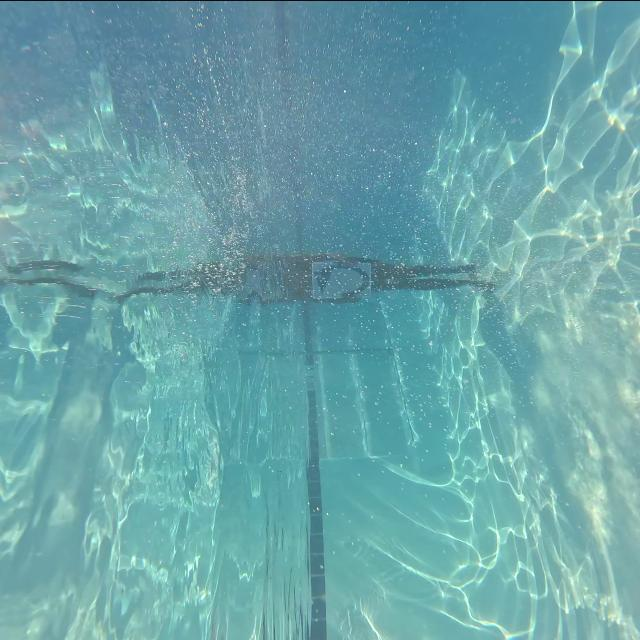blue_side: (301, 250, 402, 306)
